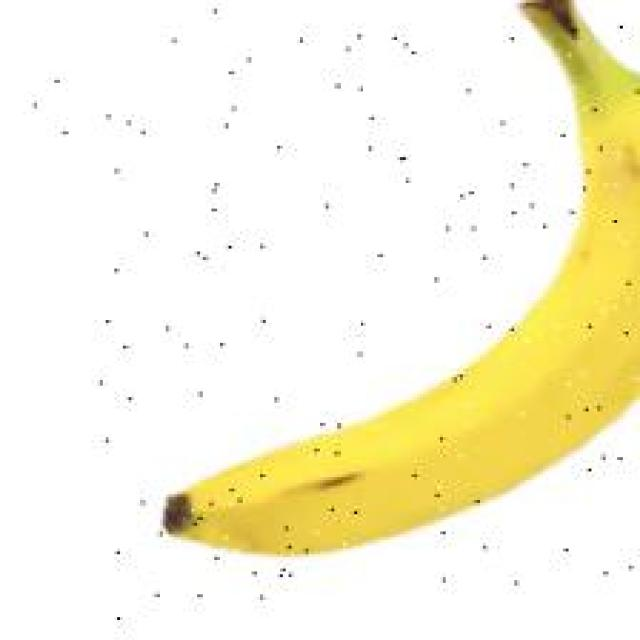banana: (114, 2, 640, 596)
